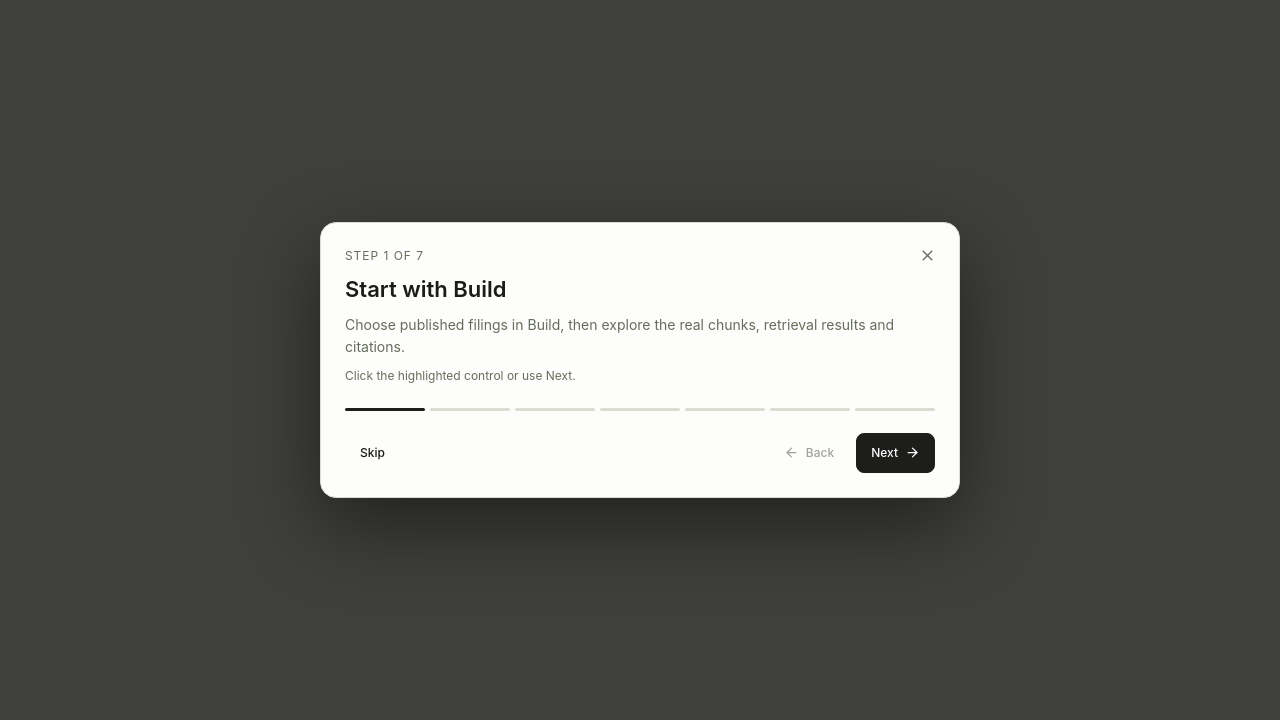
Test: onboarding › re-measures a target that mounts only after the host navigates
The width and height of the screenshot is (1280, 720).
Step 1. Click the button "Next" → (896, 453), box x1=856 y1=433 x2=935 y2=473
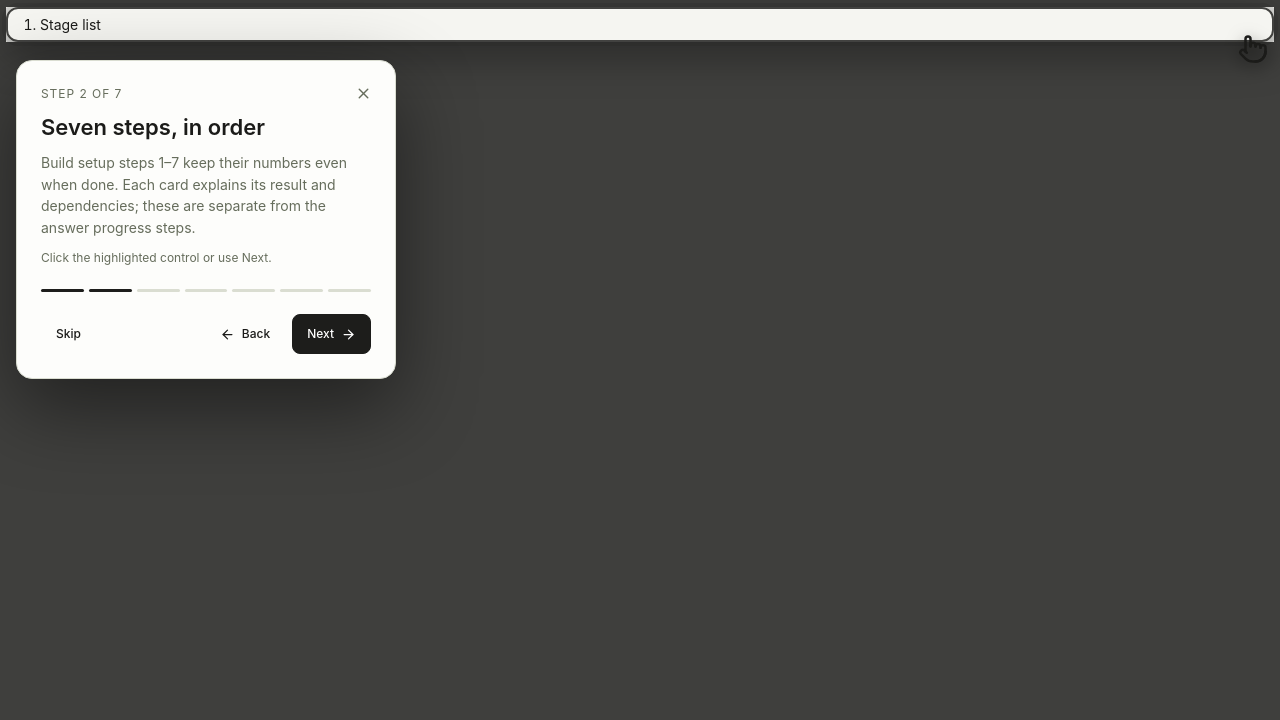
Expected: the text "Step 2 of 7" is shown, x1=41 y1=86 x2=122 y2=101
Expected: the element with class "tour-spotlight" is shown, x1=6 y1=7 x2=1274 y2=42
Expected: the element with class "tour-shade-full" is gone
Step 2. Click the list item "Stage list" → (70, 24), box x1=40 y1=16 x2=101 y2=33
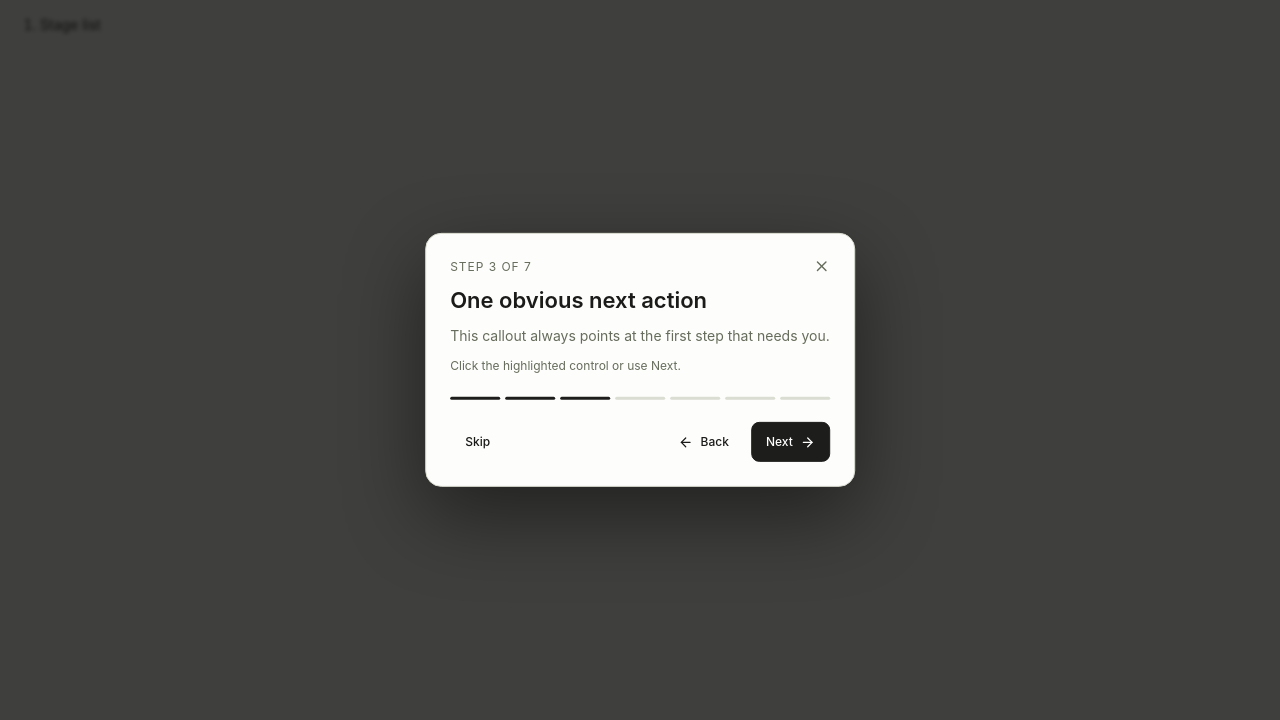
Expected: the text "Step 3 of 7" is shown, x1=450 y1=259 x2=532 y2=274
